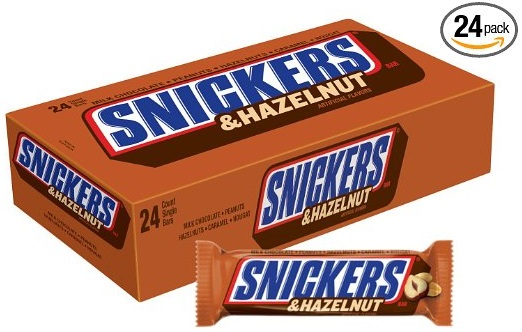snickers: (96, 35, 371, 145), (97, 35, 371, 145), (96, 50, 371, 145), (261, 133, 390, 226), (14, 133, 114, 226), (270, 133, 390, 207), (16, 138, 114, 226), (231, 258, 407, 299), (270, 144, 384, 207), (231, 260, 405, 299), (233, 260, 405, 299)
